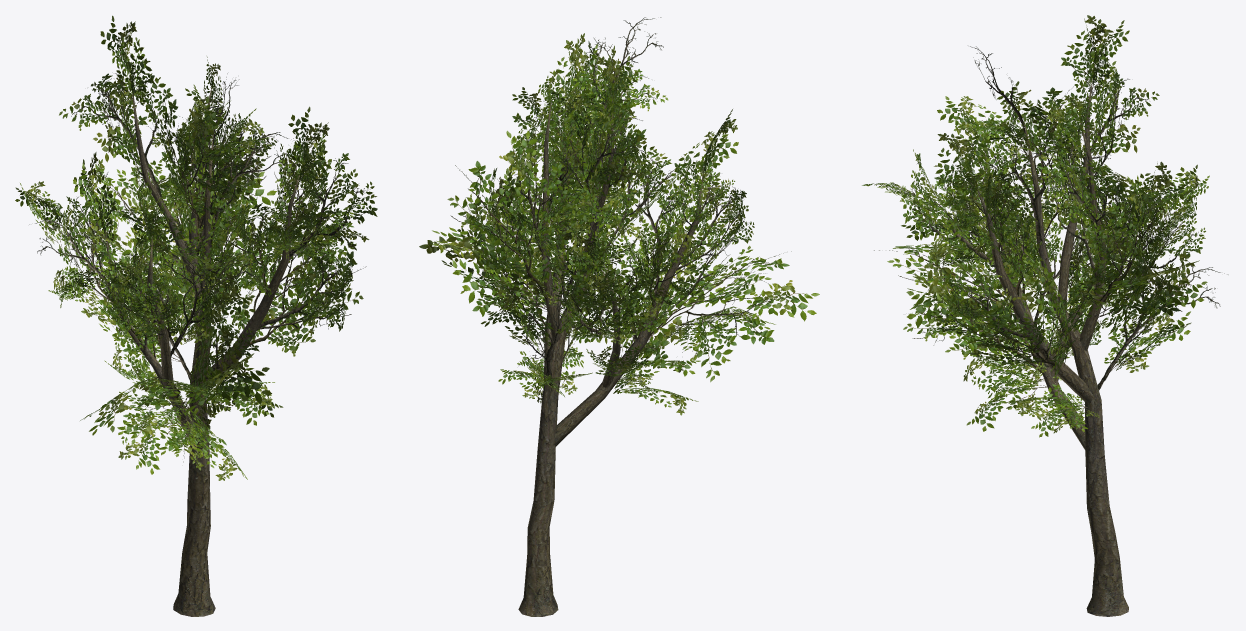
The model's file is tree2.dae.
3 renders of one model, left to right at view 1: azimuth 30°, elevation 25°; view 2: azimuth 150°, elevation 25°; view 3: azimuth 270°, elevation 25°, orthographic. The views are drawn at different scales.
Visible parts, largest first — view 1: Foliage_Trees_02; view 2: Foliage_Trees_02; view 3: Foliage_Trees_02.
Boxes of the visible parts, box(x1,y1,x2,y2) form: Foliage_Trees_02: box(15, 15, 377, 616); Foliage_Trees_02: box(419, 17, 819, 616); Foliage_Trees_02: box(862, 15, 1228, 616).
Size of what is drawn, in the model's own units: 63.01 by 67.17 by 111.
